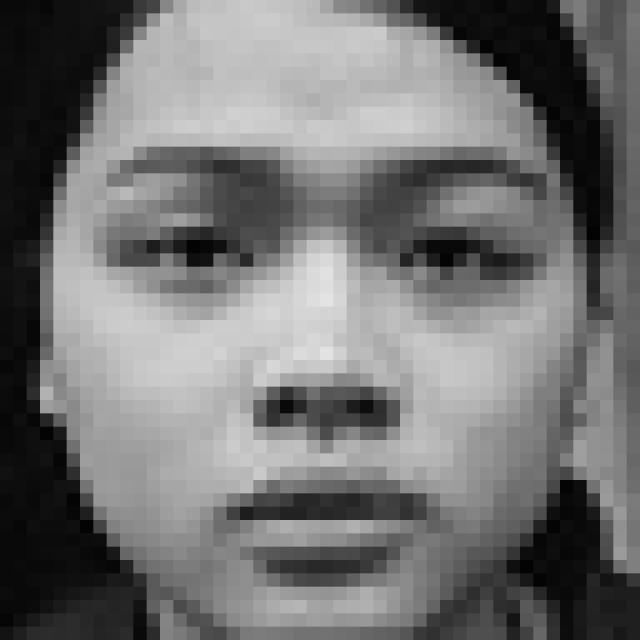neutral: (94, 131, 557, 588)
